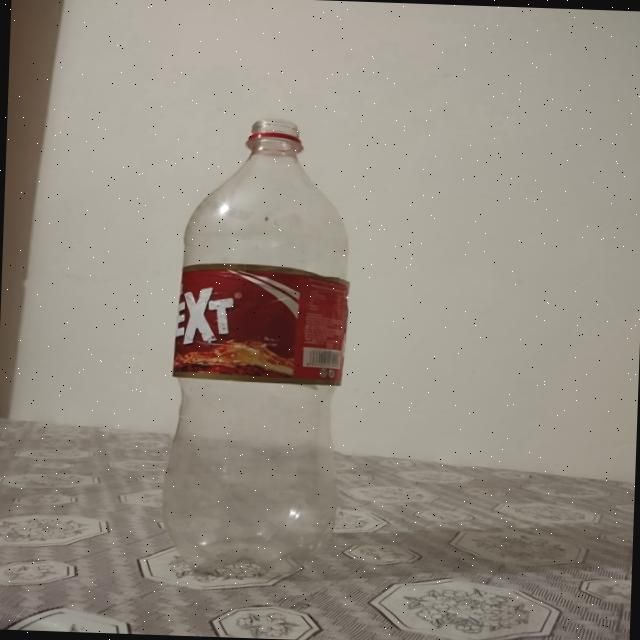bottle: (162, 113, 356, 569)
label: (175, 264, 352, 386)
